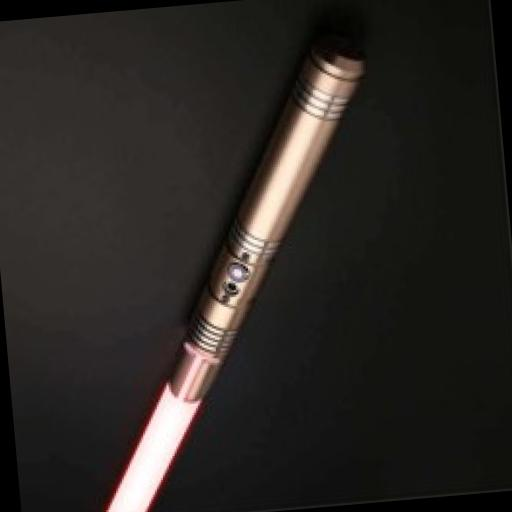sith saber: (60, 33, 426, 512)
